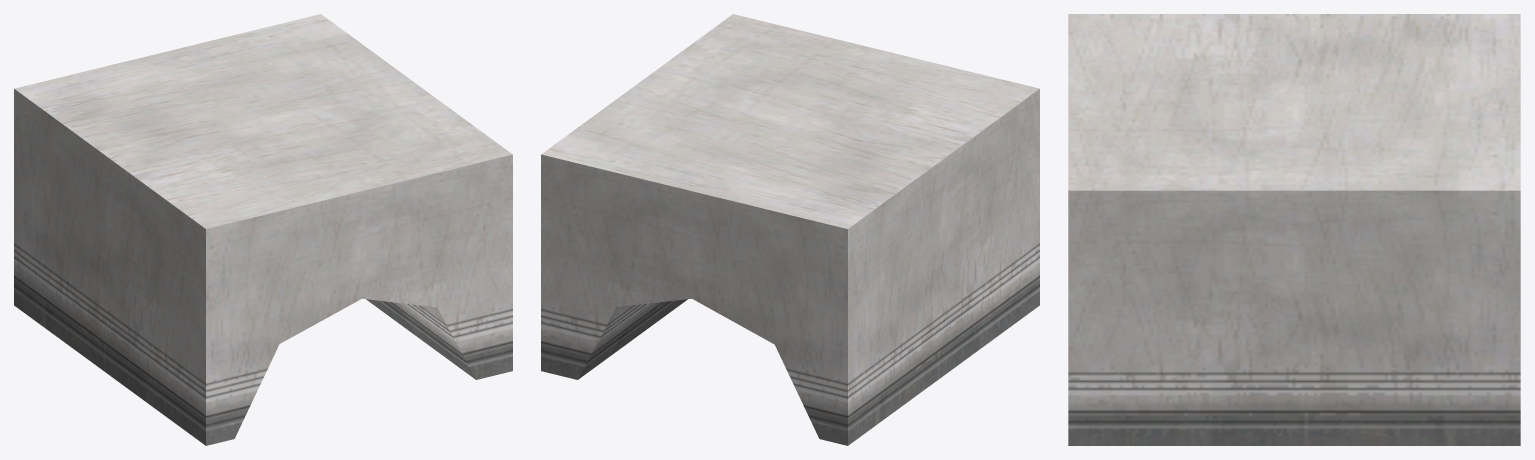
File: frn_all_mdrn_end_table_s01_l1.fbx
3 renders of one model, left to right at view 1: azimuth 30°, elevation 25°; view 2: azimuth 150°, elevation 25°; view 3: azimuth 270°, elevation 25°, orthographic. The views are drawn at different scales.
Visible parts, largest first — view 1: mesh_node; view 2: mesh_node; view 3: mesh_node.
Part boxes in pixels (x1,y1,x2,y2): mesh_node: (14,14,512,445); mesh_node: (541,14,1039,445); mesh_node: (1068,14,1520,445).
Bounding box in the file's own units: 0.9229 × 0.6233 × 1.
